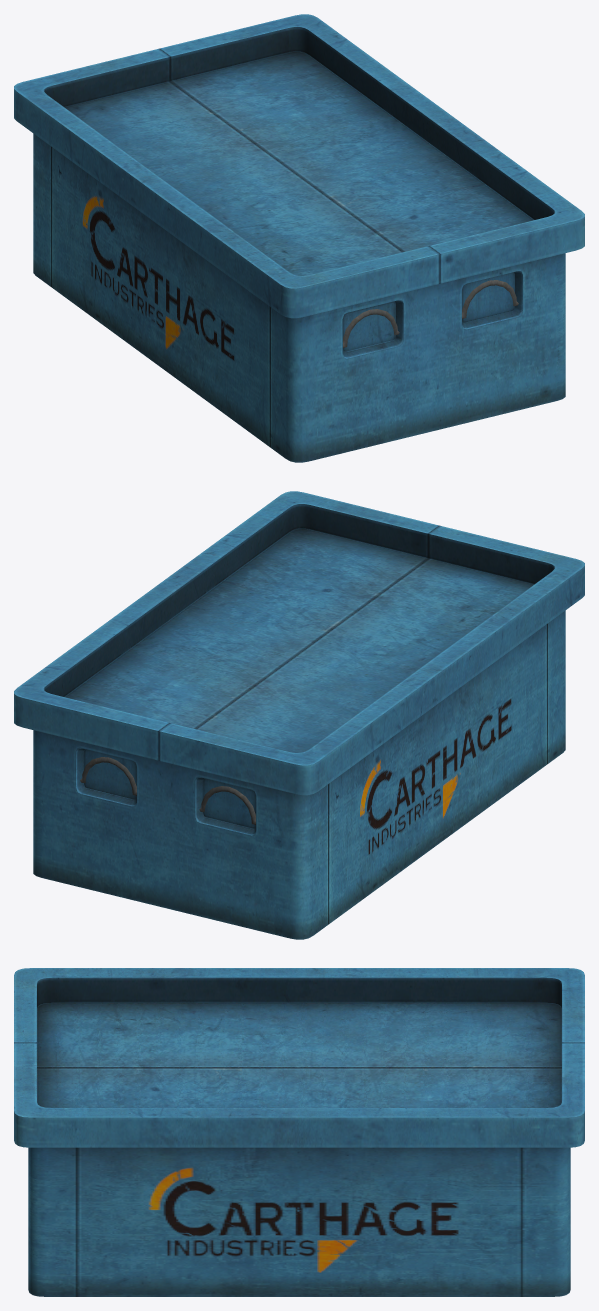
Rendered from crate_carthage_plastic.DAE.
3 renders of one model, top to bottom at view 1: azimuth 30°, elevation 25°; view 2: azimuth 150°, elevation 25°; view 3: azimuth 270°, elevation 25°, orthographic.
Visible parts, largest first — view 1: crate_carthage_plastic; view 2: crate_carthage_plastic; view 3: crate_carthage_plastic.
Boxes of the visible parts, <box> form: crate_carthage_plastic: <box>14,14,584,462</box>; crate_carthage_plastic: <box>14,491,584,939</box>; crate_carthage_plastic: <box>14,968,584,1296</box>.
Size of the model in its own units: 61.99 by 35.8 by 100.
